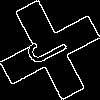J: (25, 25, 77, 69)
